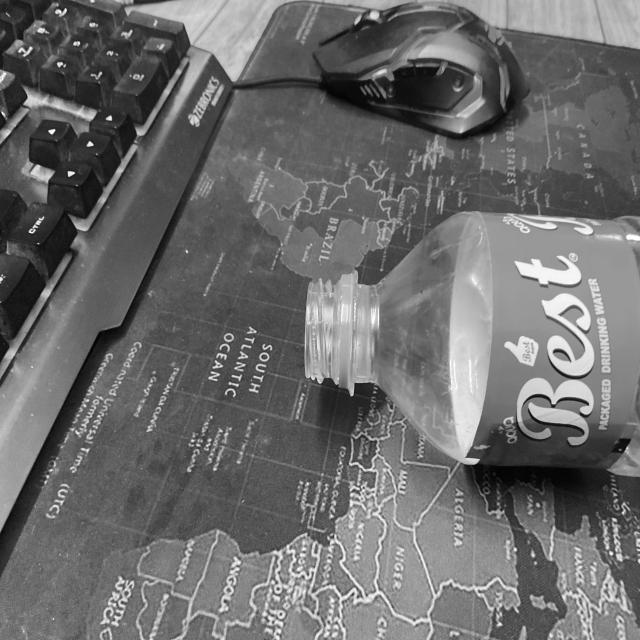open-cap: (303, 272, 352, 395)
